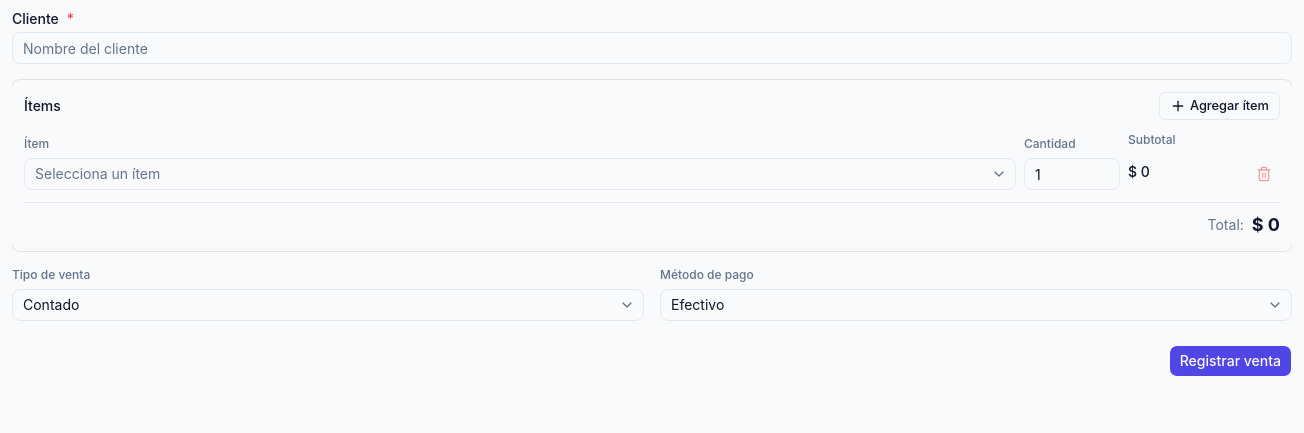
SaleForm — validación › bloquea el registro si una línea no tiene ítem seleccionado
The width and height of the screenshot is (1304, 433).
Type "Juan" into the field labelled "Cliente *".
click(652, 48); type("Juan")  # box [12,32,1292,64]
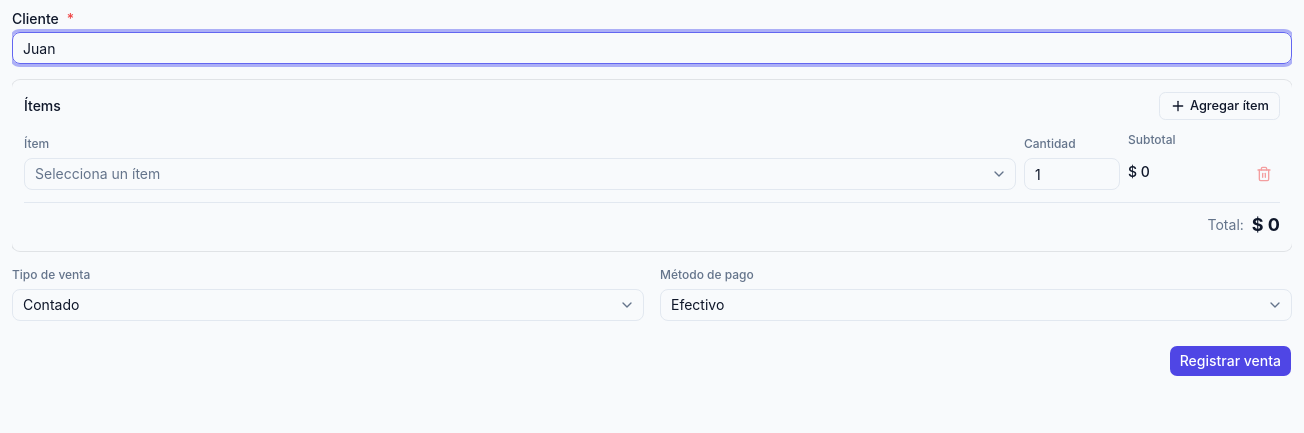
Click the button "Registrar venta".
click(1230, 361)  # box [1169,345,1292,377]
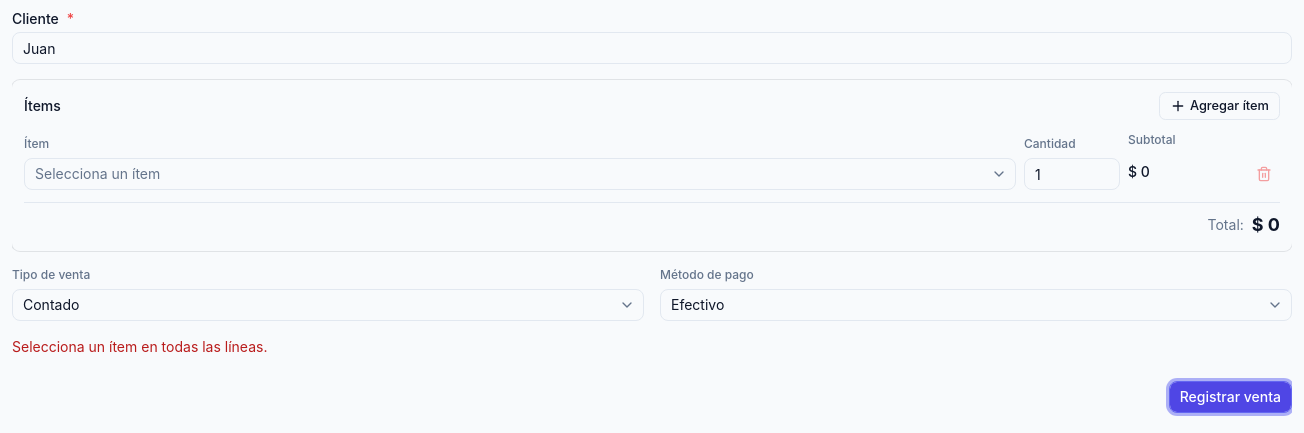
Expected: the message shows "Selecciona un ítem en todas las líneas", [12,338,267,355]
